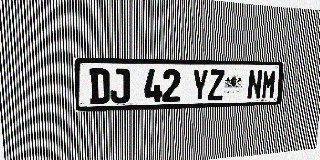2: (162, 69, 180, 102)
4: (144, 69, 162, 103)
D: (89, 68, 110, 104)
J: (110, 68, 129, 104)
M: (261, 70, 277, 99)
N: (247, 70, 263, 99)
Y: (191, 69, 209, 101)
Z: (208, 69, 225, 101)
